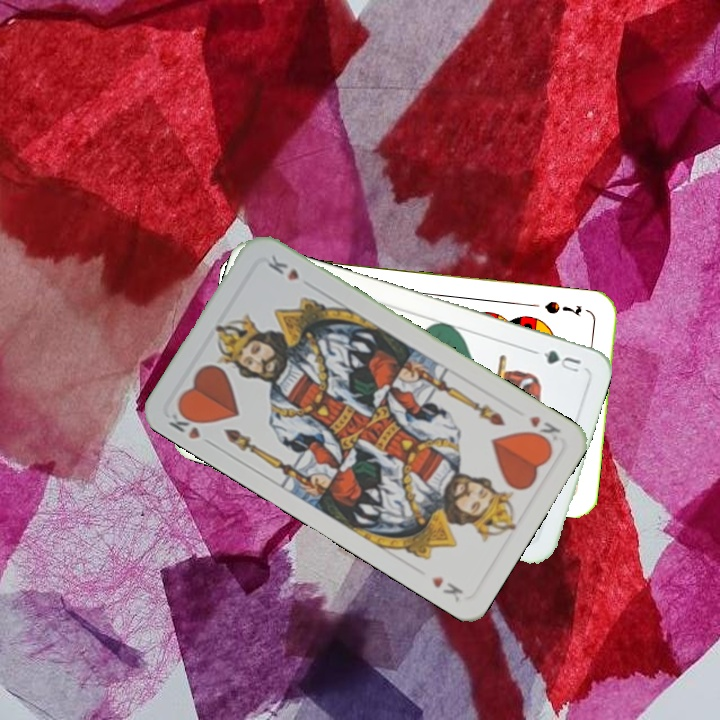GU: (539, 346, 584, 375)
HK: (164, 403, 217, 449), (523, 411, 564, 448)
S7: (541, 297, 584, 320)
